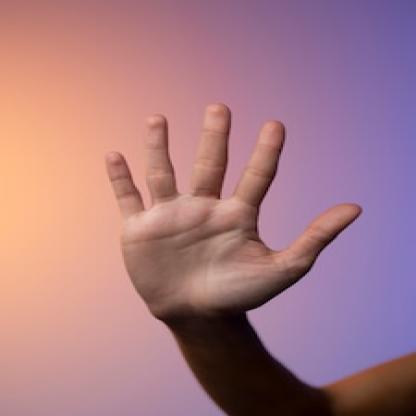stop: (97, 97, 365, 321)
